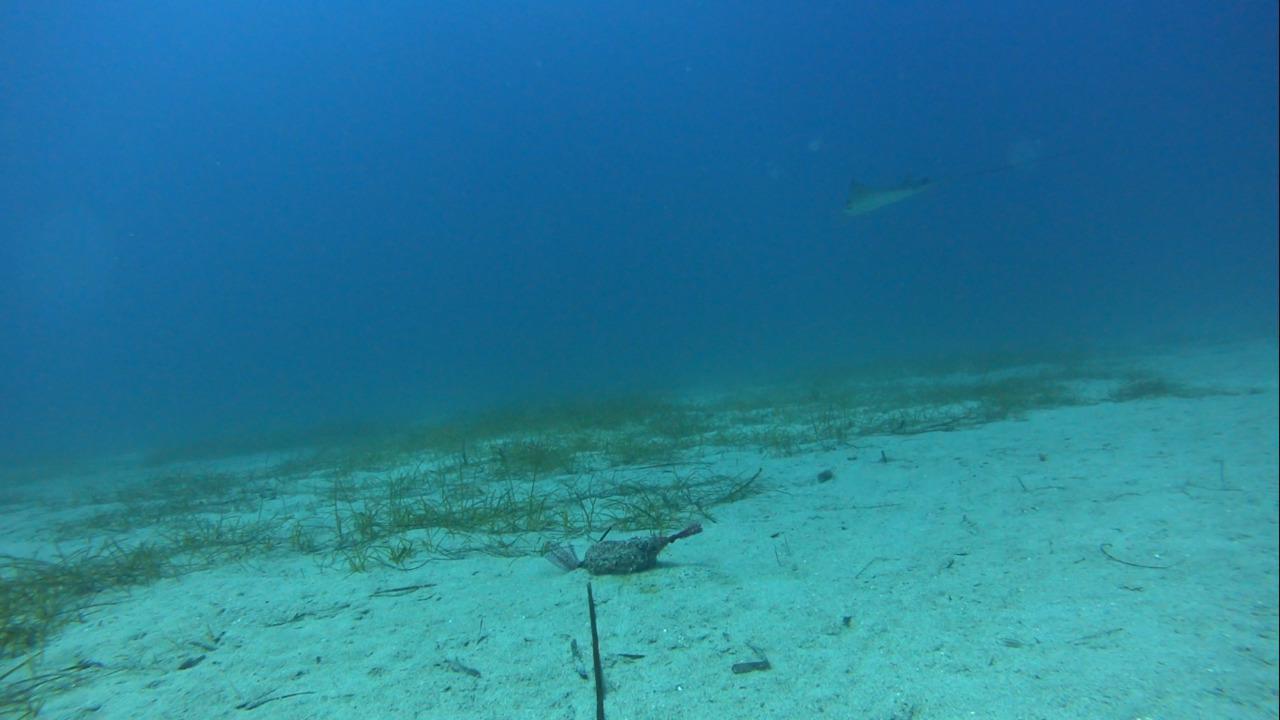myliobatis: (825, 146, 1069, 219)
